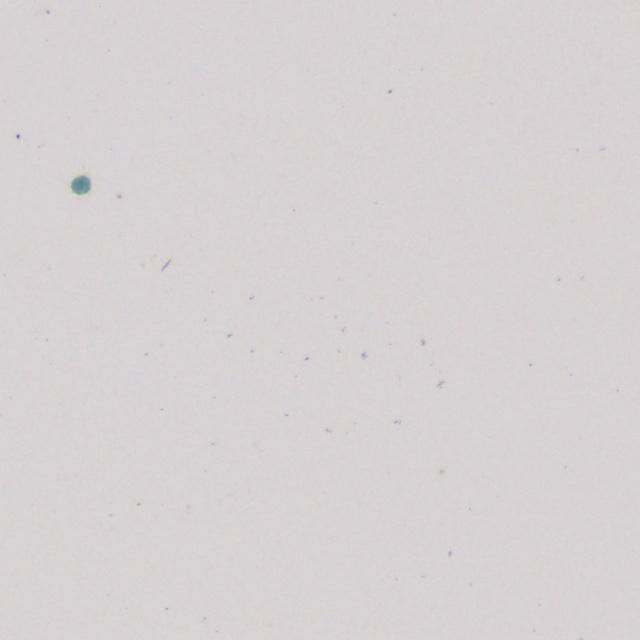non_viable: (71, 175, 90, 194)
